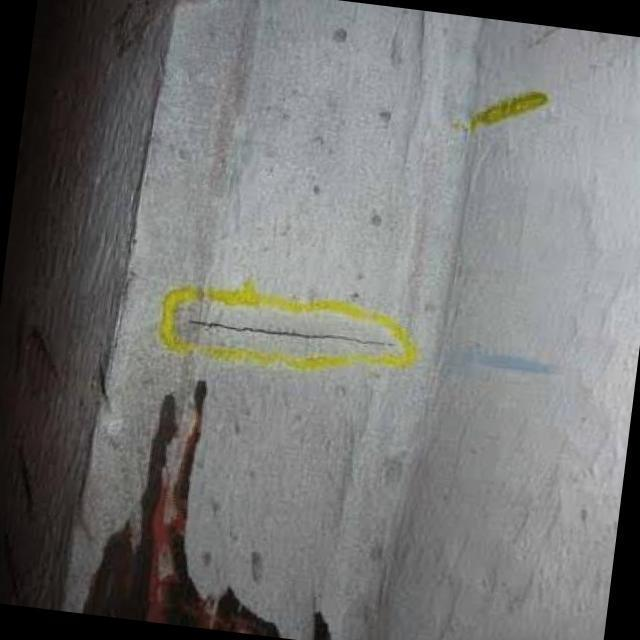defect: (182, 314, 400, 348)
